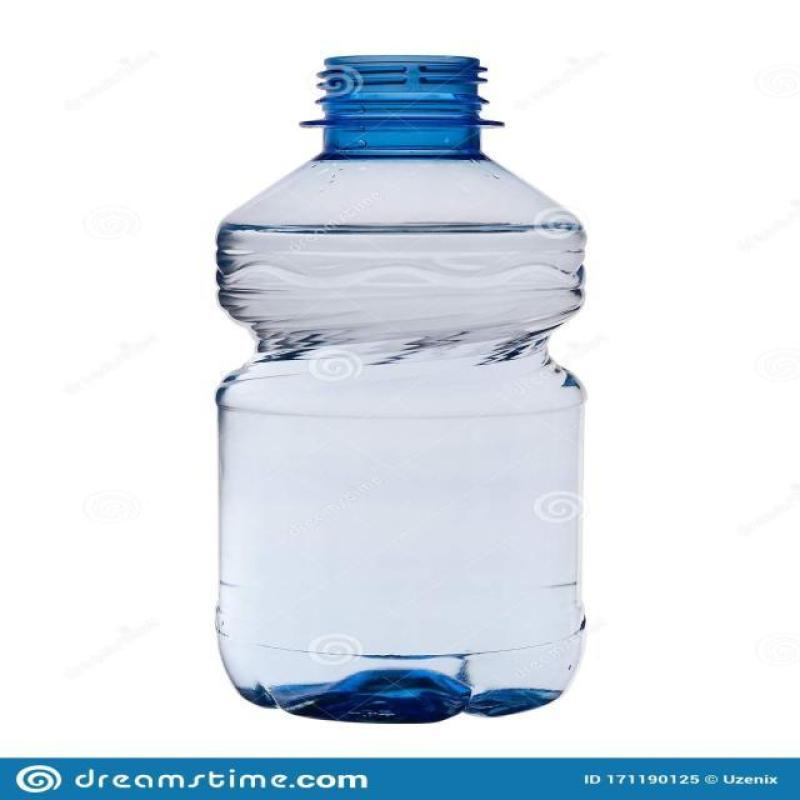botella: (210, 54, 590, 727)
